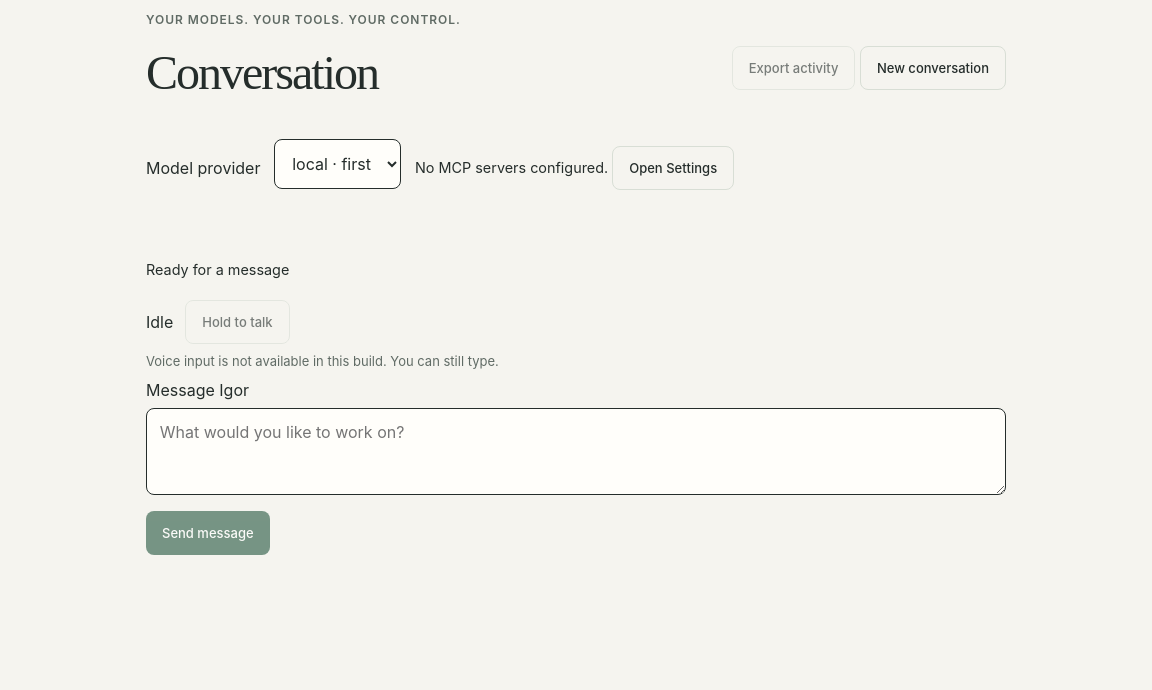
Test: refreshes provider edits immediately and resets the model session when its configuration changes
This screenshot has width=1152, height=690.
Type "Hello" into the text box with id "message" at (576, 452), box 146,408 -> 1006,495
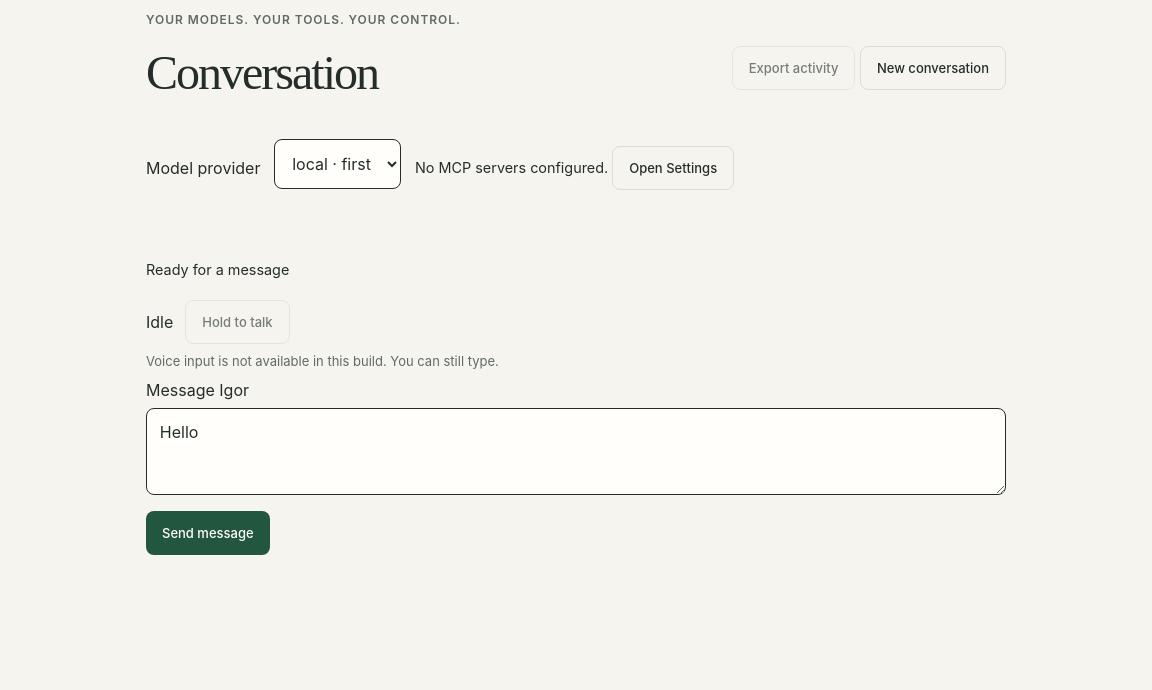
Submit the form, box 146,380 -> 1006,555
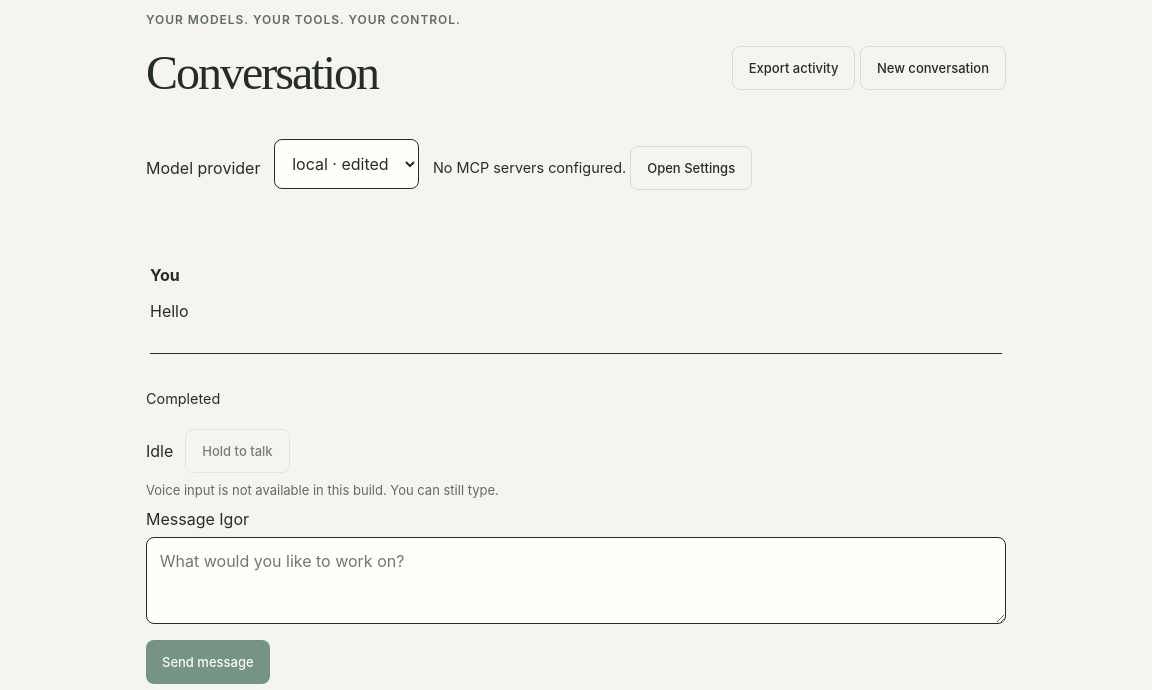
Type "Again" into the text box with id "message" at (576, 581), box 146,537 -> 1006,624
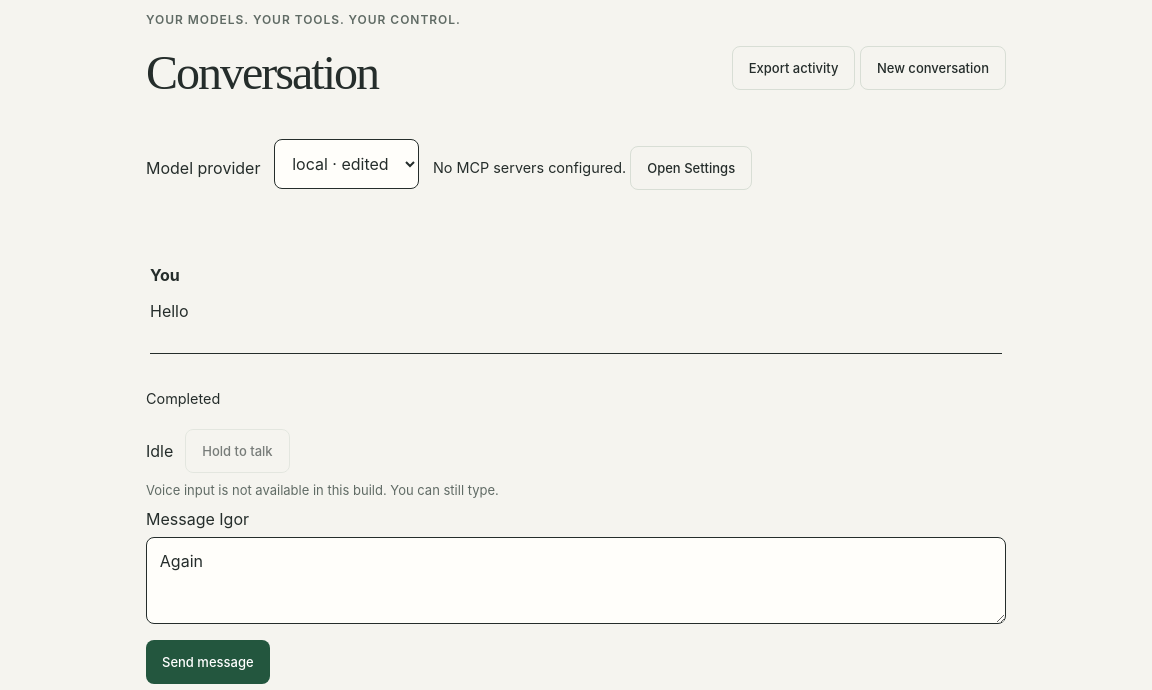
Submit the form, box 146,509 -> 1006,684
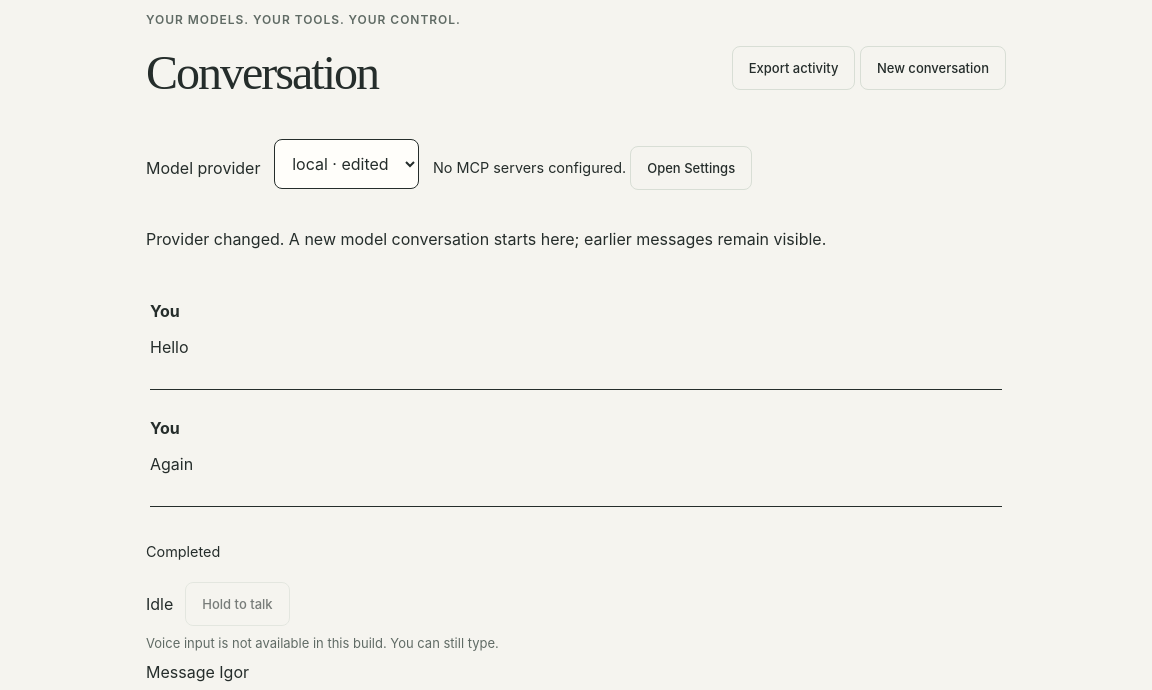
Expected: the text "Provider changed. A new model conversation starts here" is shown, 146,229 -> 826,249
Expected: the number of list items is 2, 150,285 -> 1002,390; 150,402 -> 1002,507
